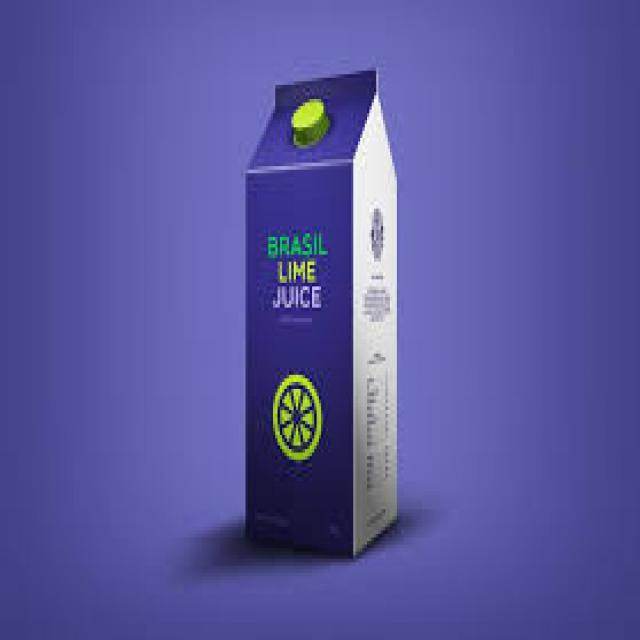non_white_jug: (237, 55, 412, 564)
